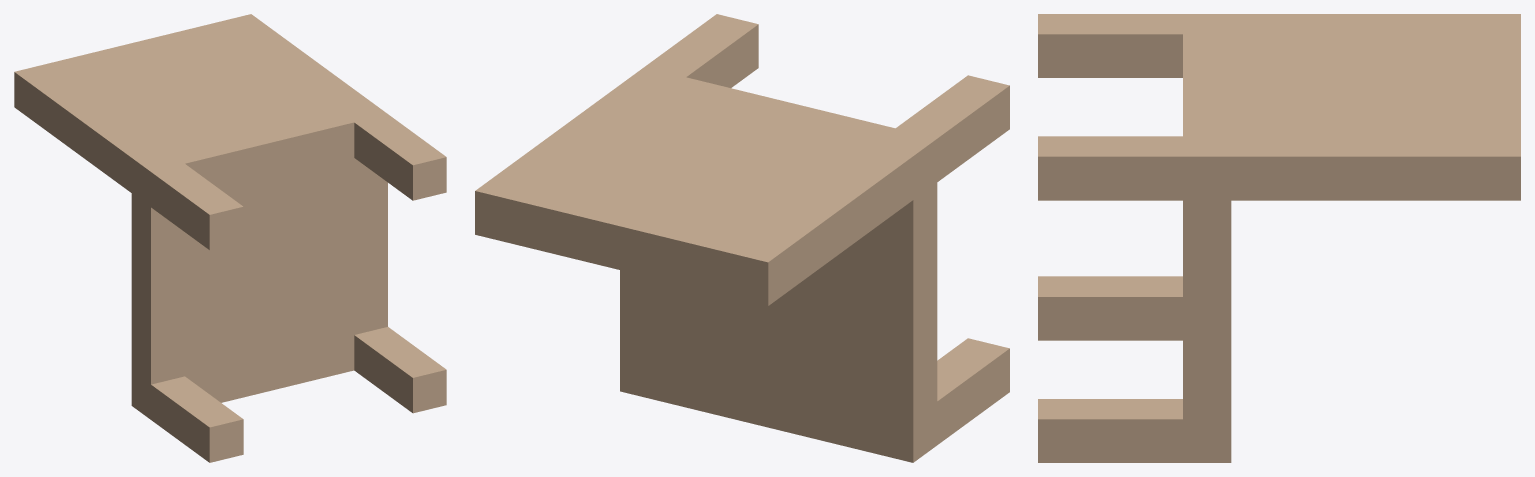
Rendered from jungle_chair_held.gltf.
3 views of the same model, side by side, from view 1: azimuth 30°, elevation 25°; view 2: azimuth 150°, elevation 25°; view 3: azimuth 270°, elevation 25° (orthographic). The views are drawn at different scales.
Parts seen in each view (by area): view 1: building_jungle_chair_held; view 2: building_jungle_chair_held; view 3: building_jungle_chair_held.
Boxes of the visible parts, box(x1,y1,x2,y2) form: building_jungle_chair_held: box(14, 14, 446, 462); building_jungle_chair_held: box(475, 14, 1009, 462); building_jungle_chair_held: box(1038, 14, 1520, 462).
Bounding box in the file's own units: 0.112 × 0.112 × 0.16.
